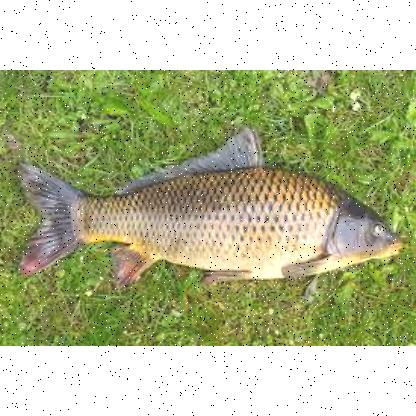ikan-mas: (17, 133, 402, 294)
